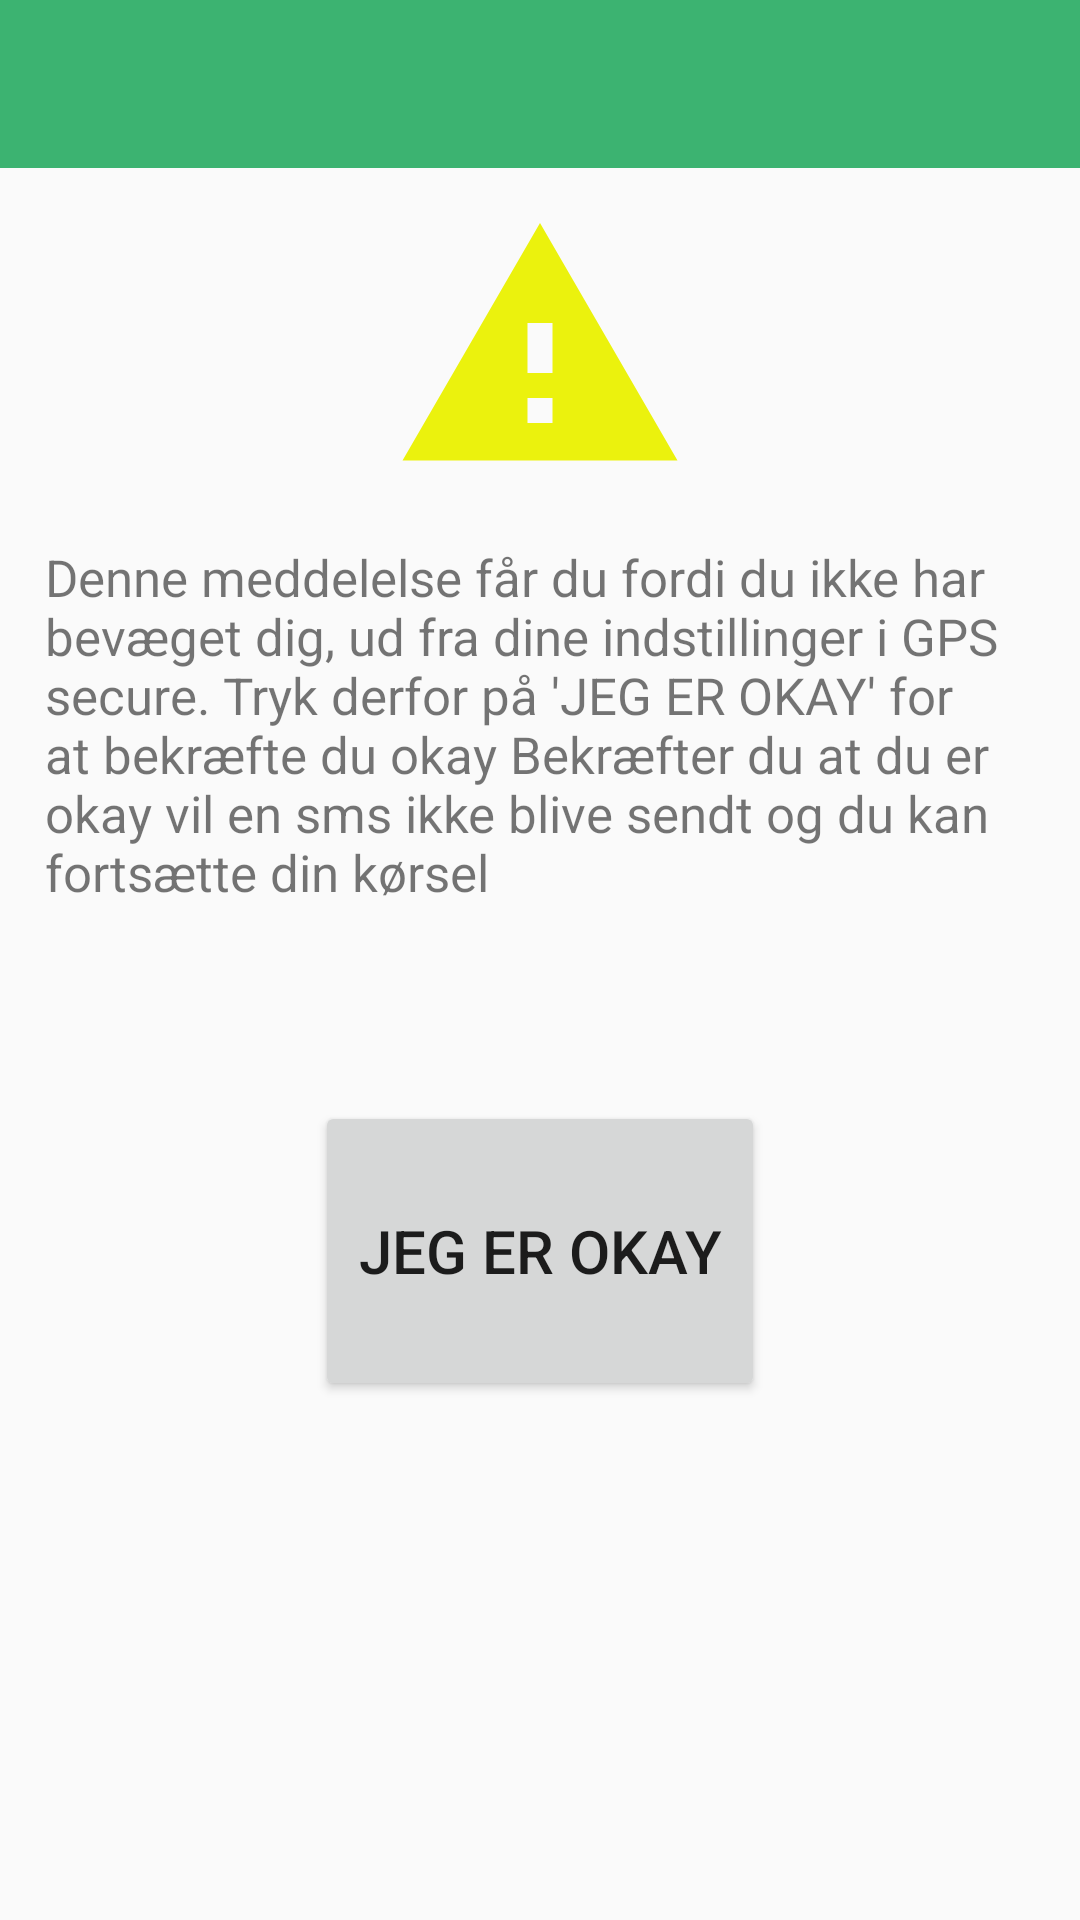

Icon bounding boxes for this 1080px x 1920px phone screenshot, format (x1, y1, x2, y2):
warning: (402, 223, 678, 461)
